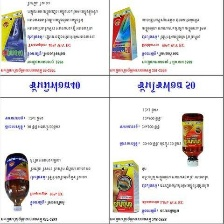carton: (108, 5, 139, 62), (110, 157, 141, 213), (0, 8, 29, 64)
insecticide: (2, 148, 30, 215), (178, 109, 205, 167)
